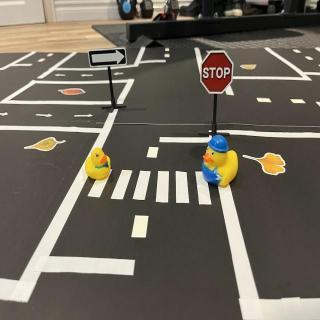duck_regular: (86, 150, 112, 181)
duck_specialty: (203, 136, 240, 190)
road_crosswalk: (83, 168, 216, 209)
road_oneway: (35, 113, 56, 120), (74, 114, 95, 120), (114, 71, 129, 79), (54, 74, 71, 80), (79, 74, 95, 80), (1, 112, 11, 121)
sign_oneway_right: (89, 50, 128, 69)
sign_stop: (203, 53, 233, 95)
